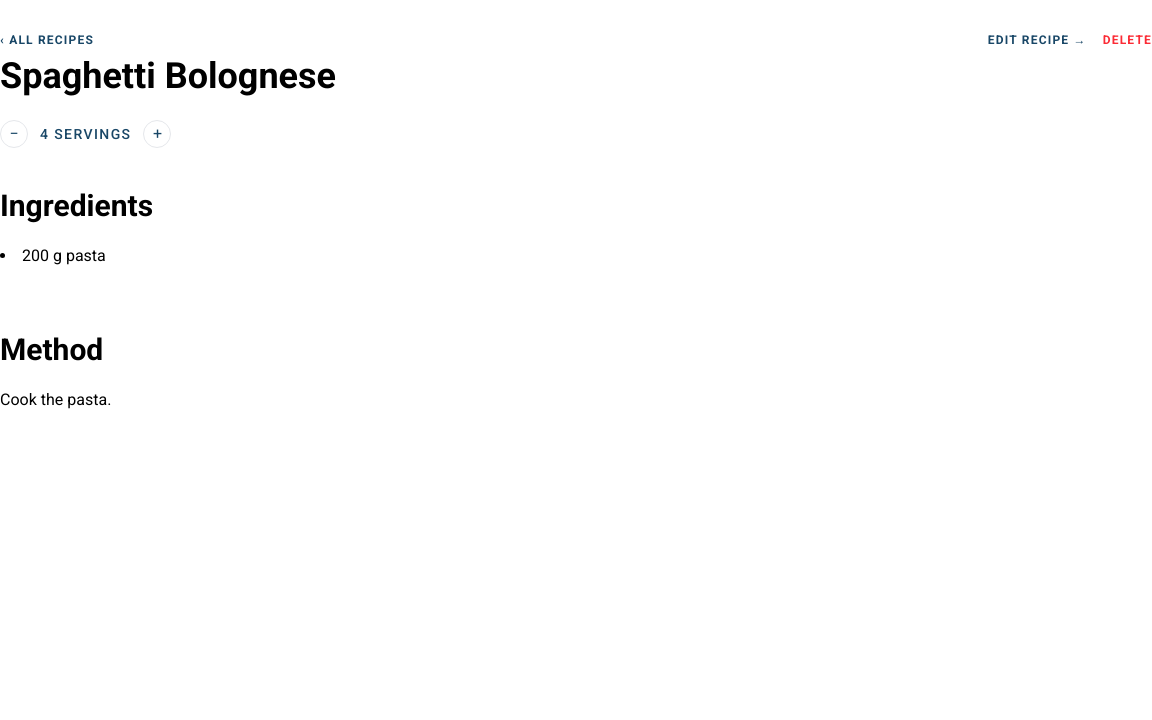
Test: RecipePage › opens the confirmation modal when Delete is clicked
The image size is (1152, 720).
Click the button "Delete" at (1127, 40), box [1103, 32, 1151, 48]
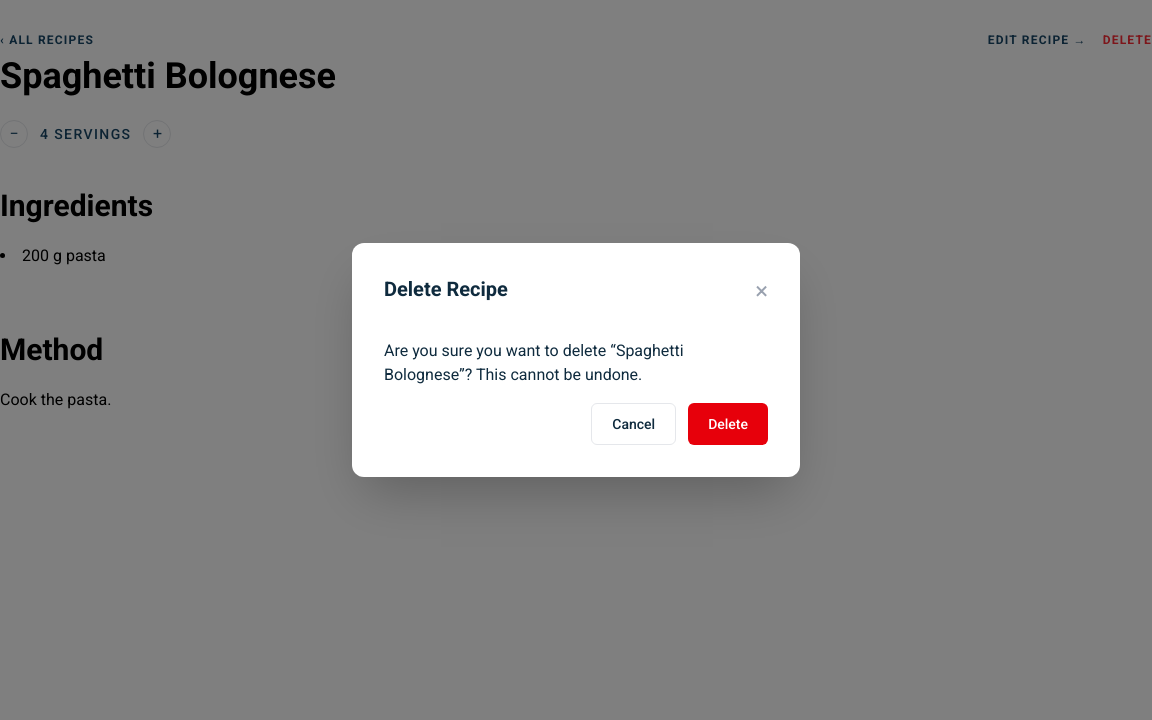
expect the text "Delete Recipe" is shown: met, box [384, 275, 508, 303]
